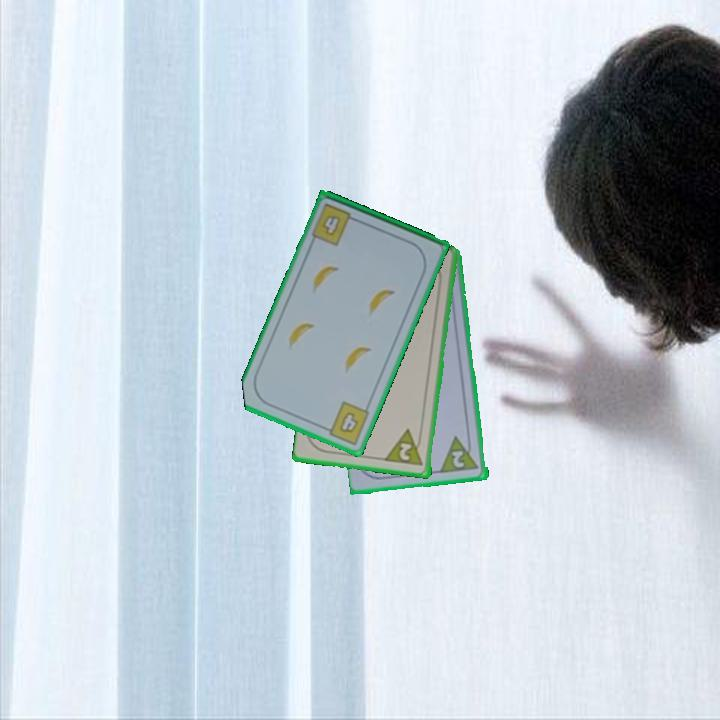2p: (438, 432, 482, 476), (383, 426, 426, 469)
4b: (319, 398, 372, 448), (310, 200, 361, 249)
